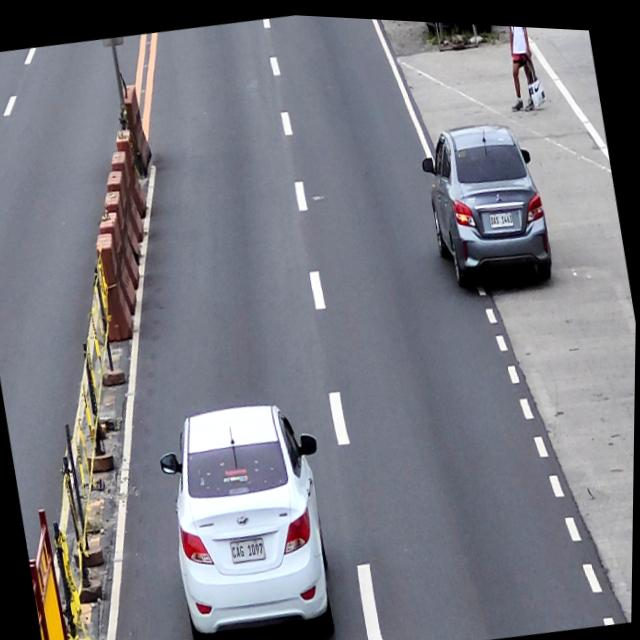Car: (158, 392, 344, 640), (419, 111, 556, 292)
License-Plate: (230, 530, 272, 567), (487, 201, 516, 227)
